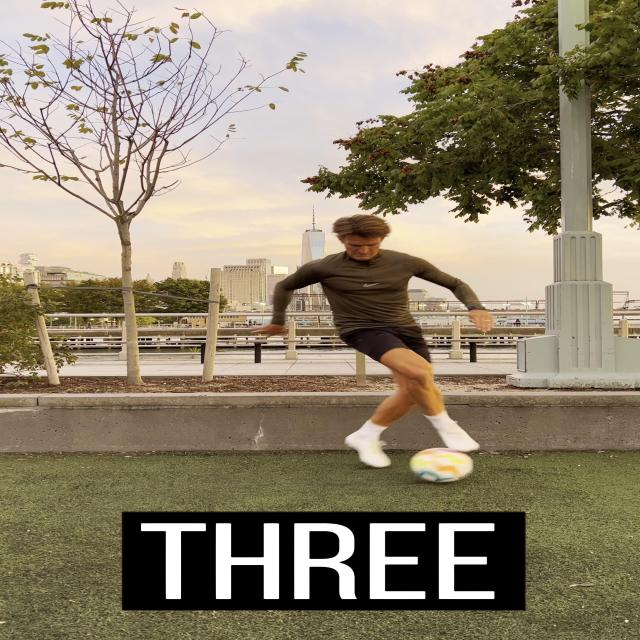Soccer Ball: (411, 447, 475, 483)
